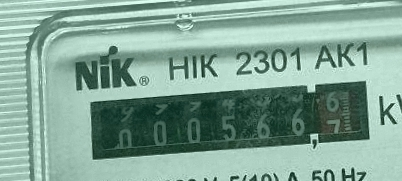0: (183, 114, 203, 144), (149, 116, 168, 146), (114, 123, 134, 148)
5: (218, 111, 238, 141)
6: (287, 104, 308, 136), (251, 109, 272, 139), (323, 88, 341, 114)
7: (325, 116, 342, 135)
9: (116, 101, 135, 123)
screen: (78, 70, 376, 169)
